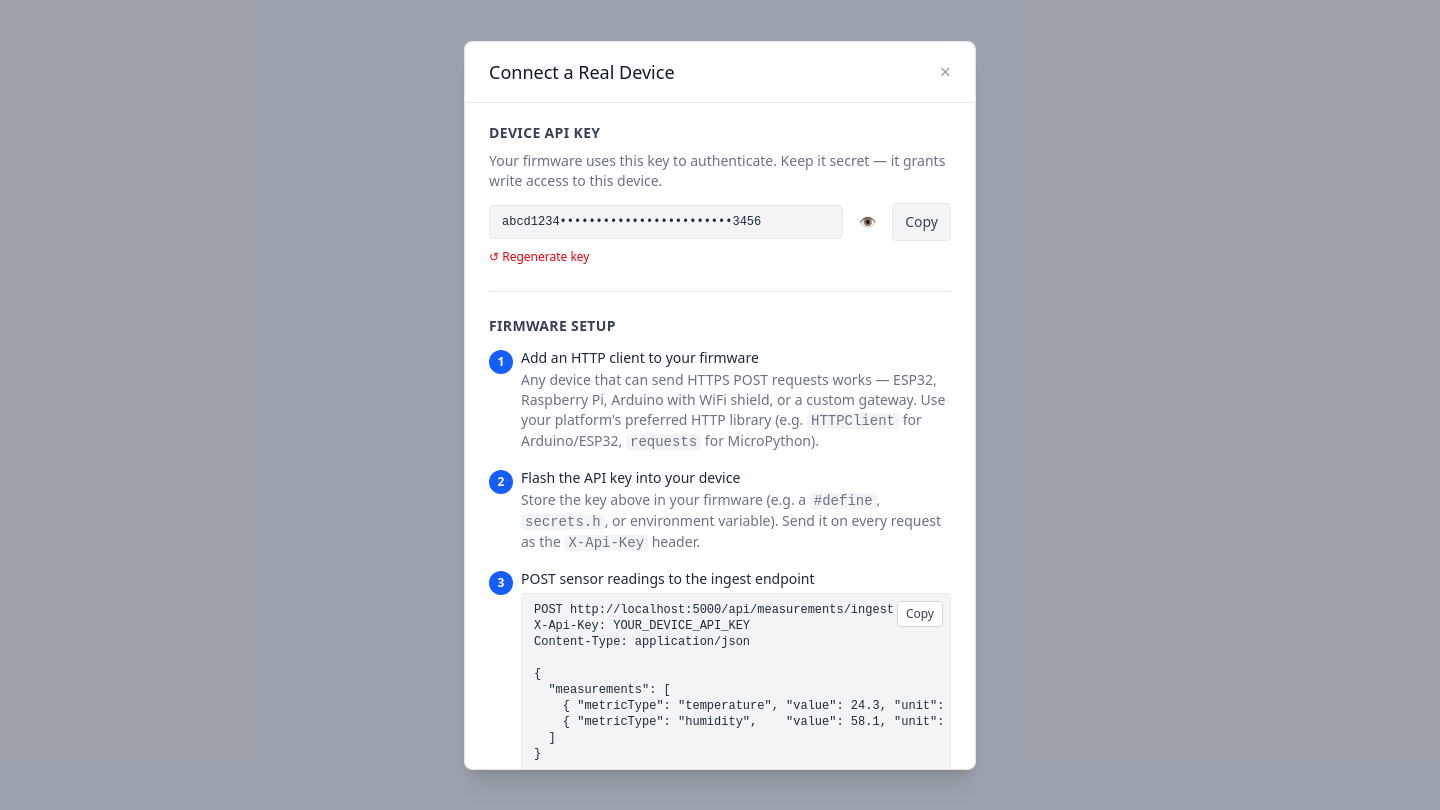
it: ConnectDeviceModal › re-masks the API key when the hide button is clicked
This screenshot has width=1440, height=810.
Click the button titled "Show key" at point(868, 222), box [851, 204, 884, 240]
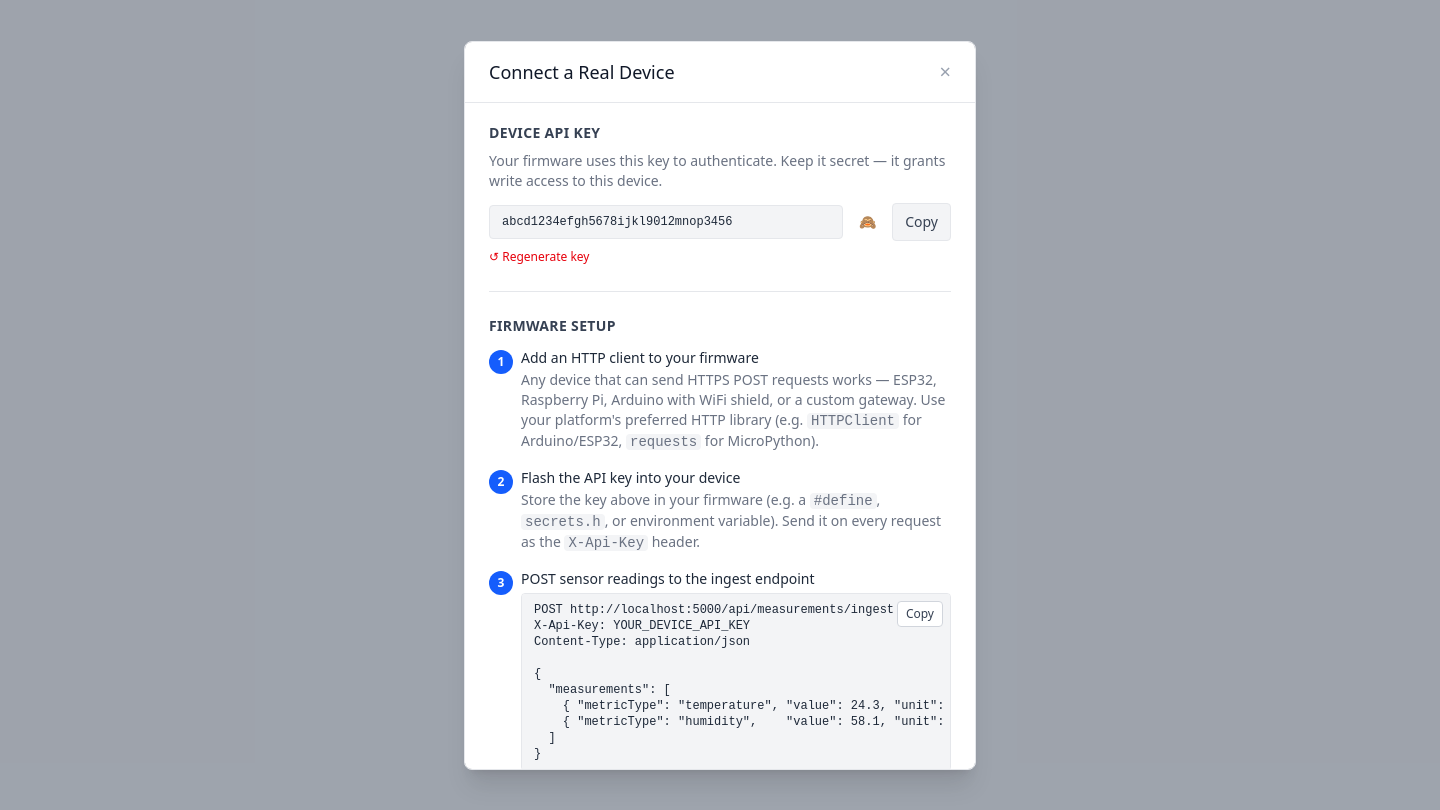
Click the button titled "Hide key" at point(868, 222), box [851, 204, 884, 240]
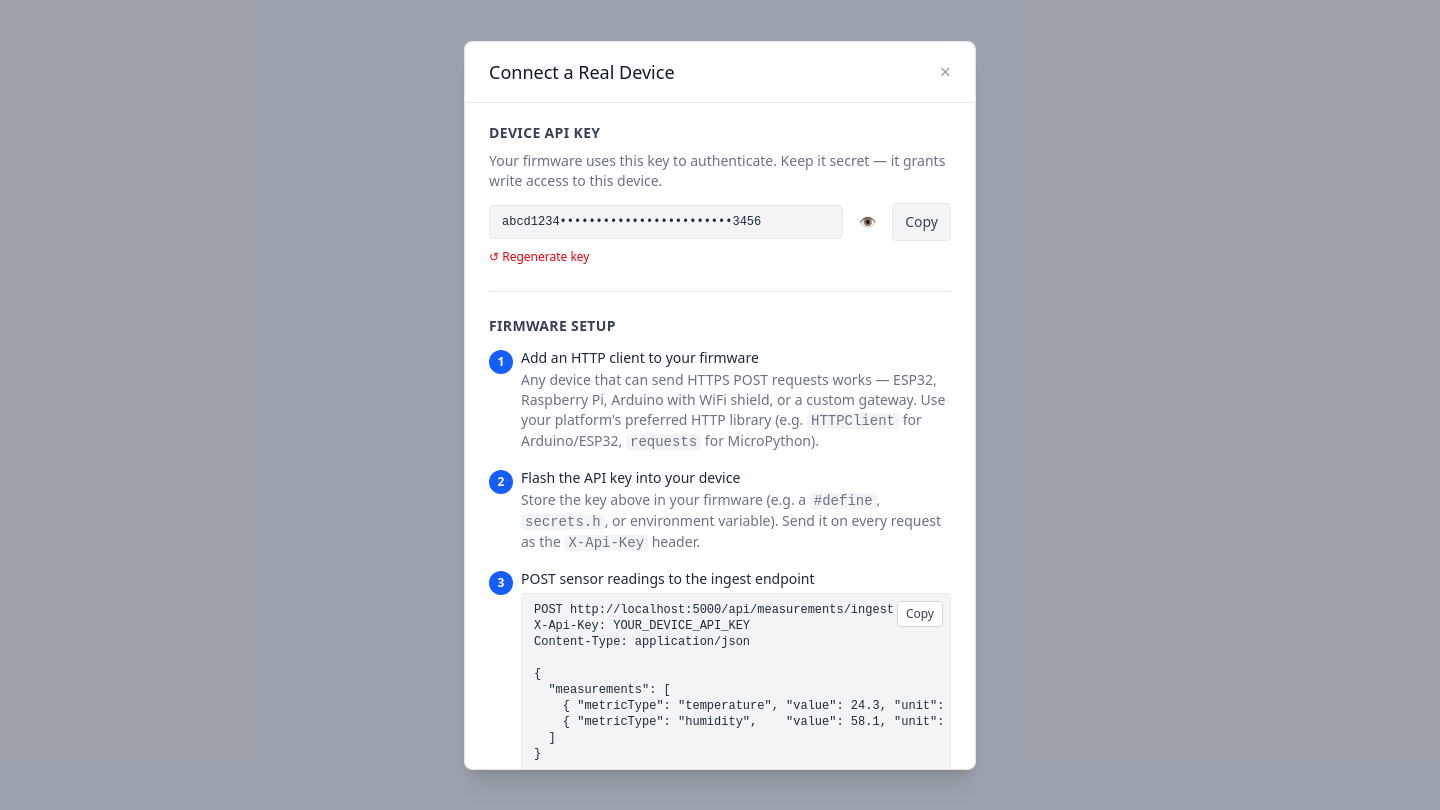
Result: the text "abcd1234efgh5678ijkl9012mnop3456" is gone
